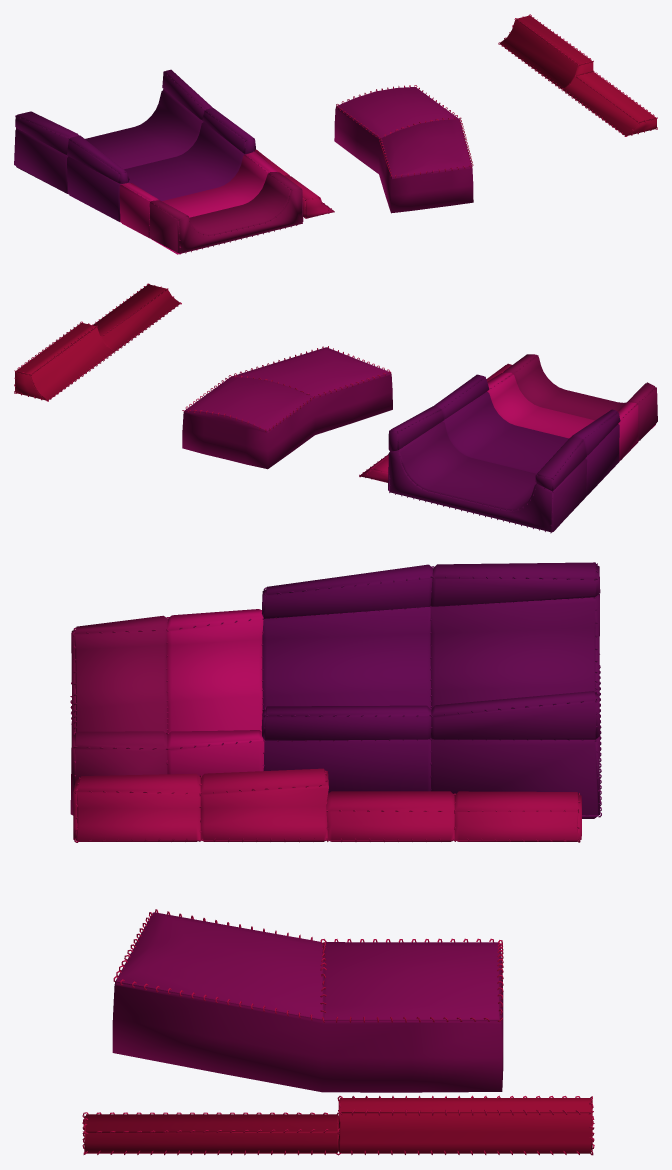
File: SM_Skateramp.fbx
3 views of the same model, one above another, from view 1: azimuth 30°, elevation 25°; view 2: azimuth 150°, elevation 25°; view 3: azimuth 270°, elevation 25° (orthographic). The views are drawn at different scales.
Visible parts, largest first — view 1: SM_SkateparkRamp.003, SM_SkateparkRamp.002, SM_SkateparkRamp; view 2: SM_SkateparkRamp.003, SM_SkateparkRamp.002, SM_SkateparkRamp; view 3: SM_SkateparkRamp.003, SM_SkateparkRamp.002, SM_SkateparkRamp.
Boxes of the visible parts, x1=… form: SM_SkateparkRamp.003: x1=14, y1=69, x2=334, y2=254; SM_SkateparkRamp.002: x1=334, y1=85, x2=473, y2=213; SM_SkateparkRamp: x1=498, y1=14, x2=657, y2=136; SM_SkateparkRamp.003: x1=359, y1=354, x2=657, y2=533; SM_SkateparkRamp.002: x1=182, y1=346, x2=392, y2=469; SM_SkateparkRamp: x1=14, y1=283, x2=181, y2=401; SM_SkateparkRamp.003: x1=70, y1=562, x2=601, y2=842; SM_SkateparkRamp.002: x1=112, y1=909, x2=503, y2=1092; SM_SkateparkRamp: x1=82, y1=1095, x2=594, y2=1155.
Size of the model in its own units: 2223 by 374 by 992.
